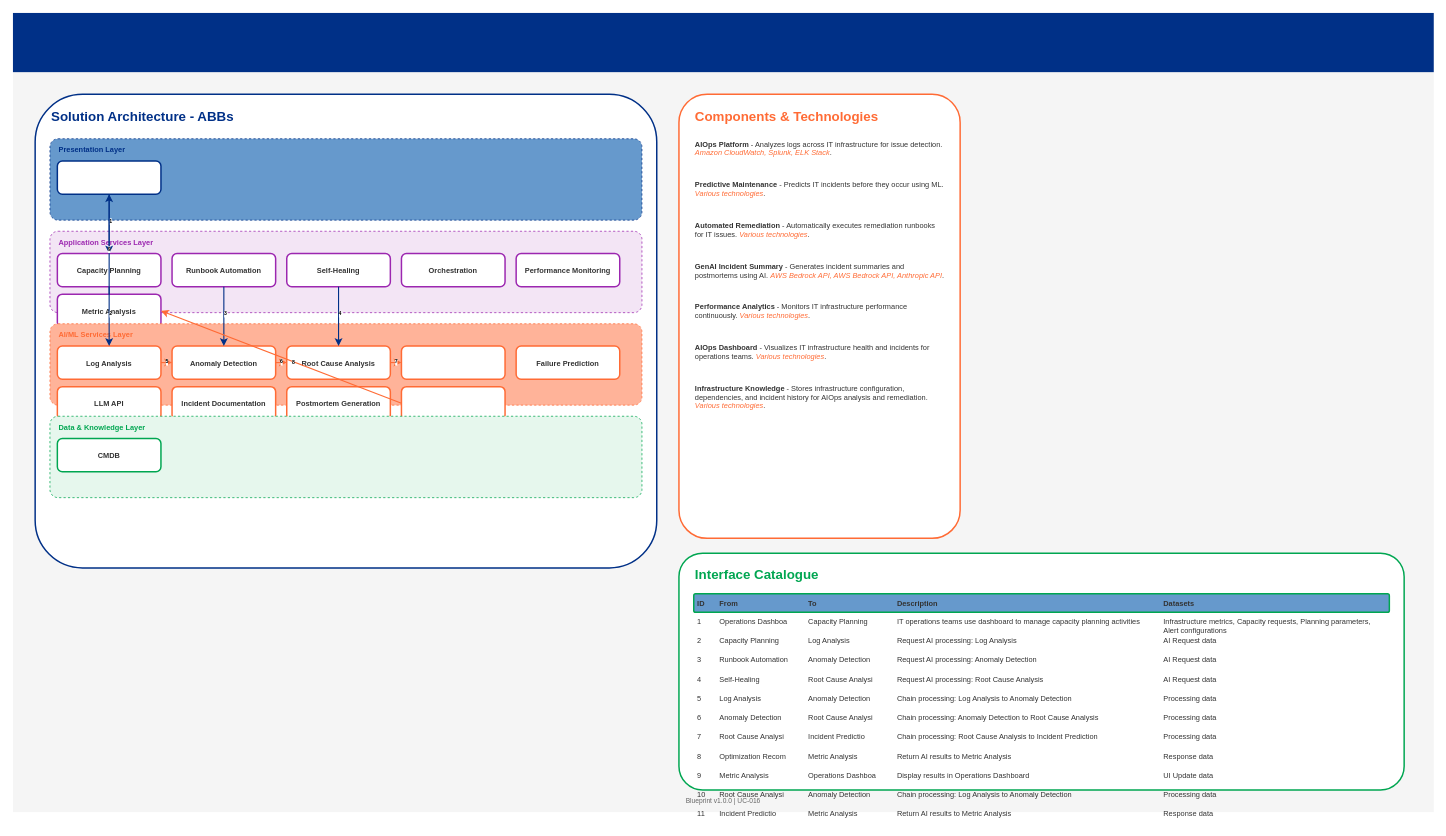
Image size: 1446x836. Some labels were removed from this diagram. The centre of each missing label's shape, as x and y in pixels:
"Incident Prediction" goes at pixel 452 362.
"Operations Dashboard" goes at pixel 108 177.
"Optimization Recommendations" goes at pixel 452 403.
"Use Case Blueprint: UC-016 IT Ops - IT Operations -" goes at pixel 723 42.
